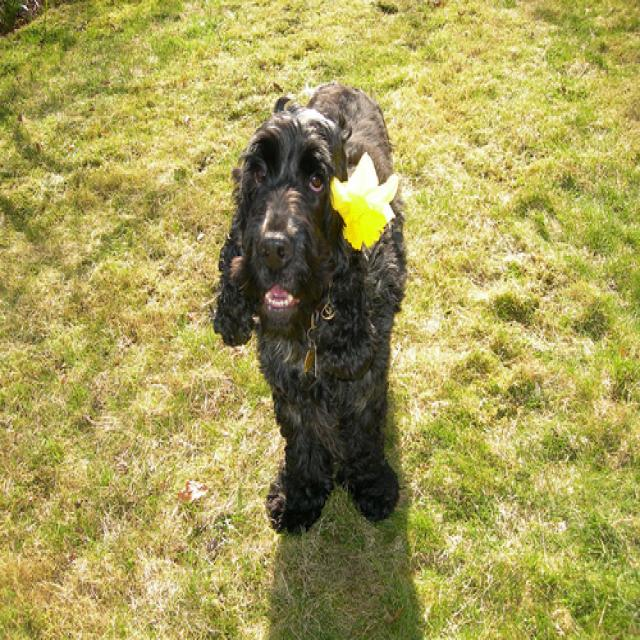dog-english_cocker_spaniel: (204, 67, 412, 544)
